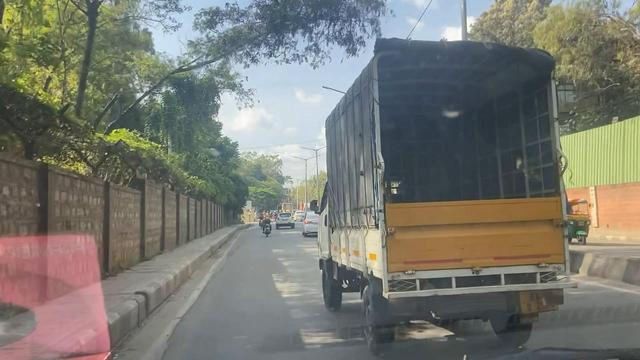HMV: (314, 26, 592, 356)
